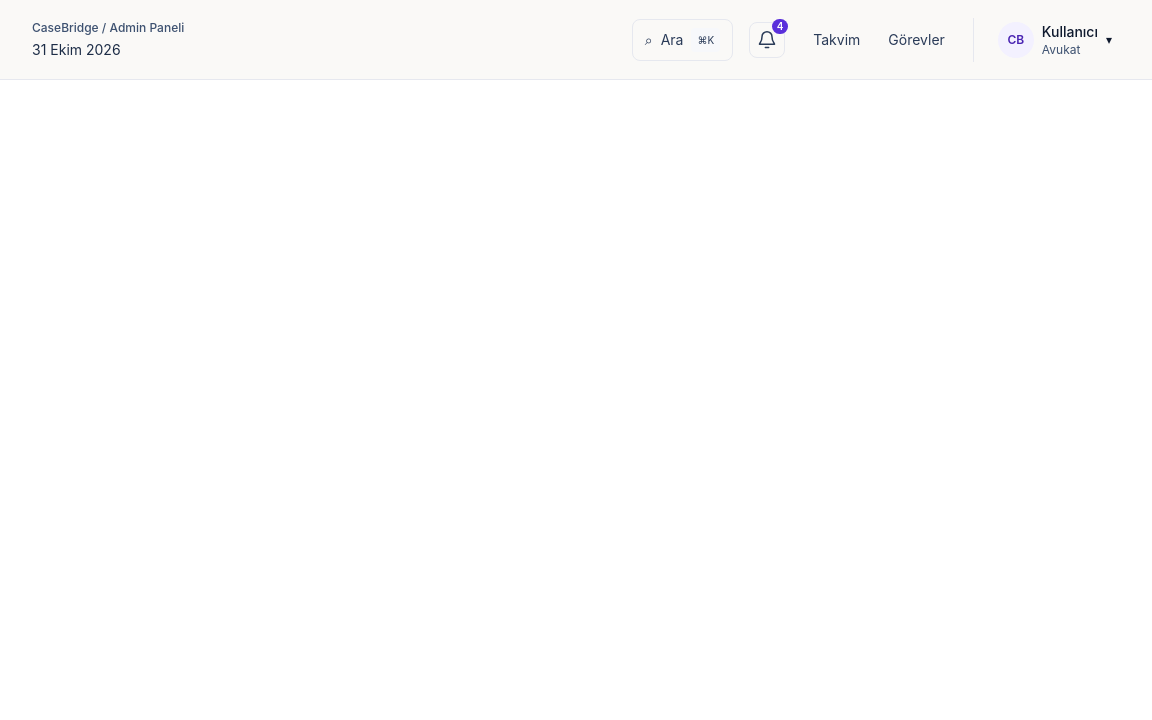
Test: WorkspaceHeader › shows upcoming work without including old hearings
The image size is (1152, 720).
What coordinates should you click on to do the following:
click the button named "4 yaklaşan kayıt"
I would click on:
 (767, 40)
Its box is [749, 22, 785, 58].
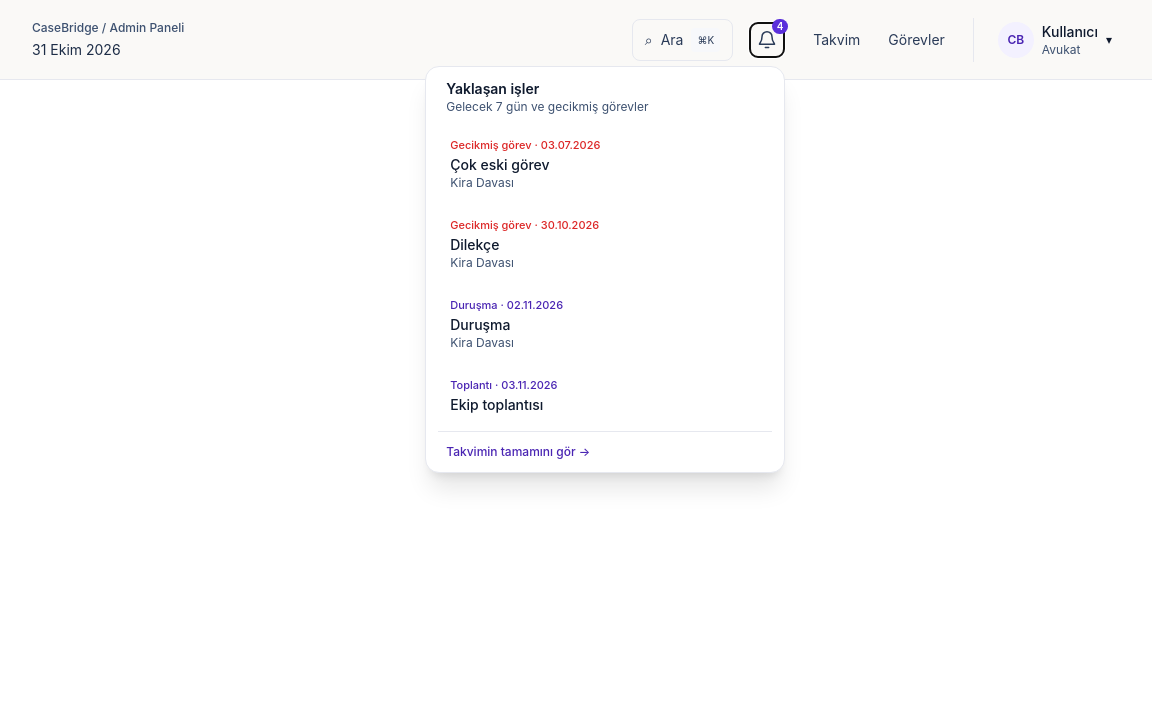
Expected: the link "Toplantı · 03.11.2026 Ekip toplantısı" is shown, [450, 378, 558, 412]
